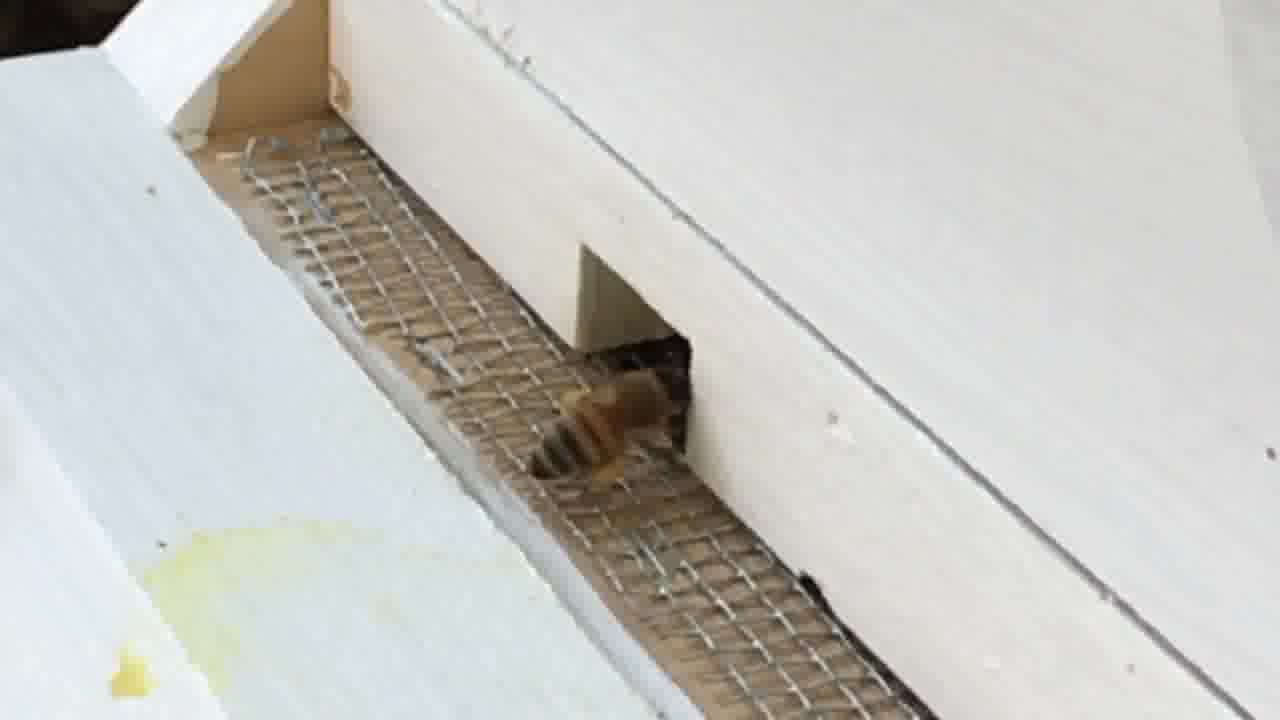pollen: (525, 375, 671, 488)
